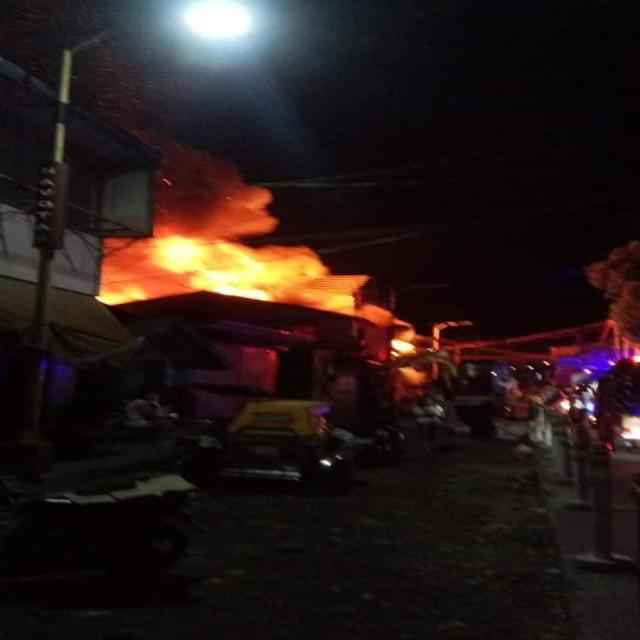Fire: (156, 228, 278, 301)
Smoke: (104, 128, 418, 347)
